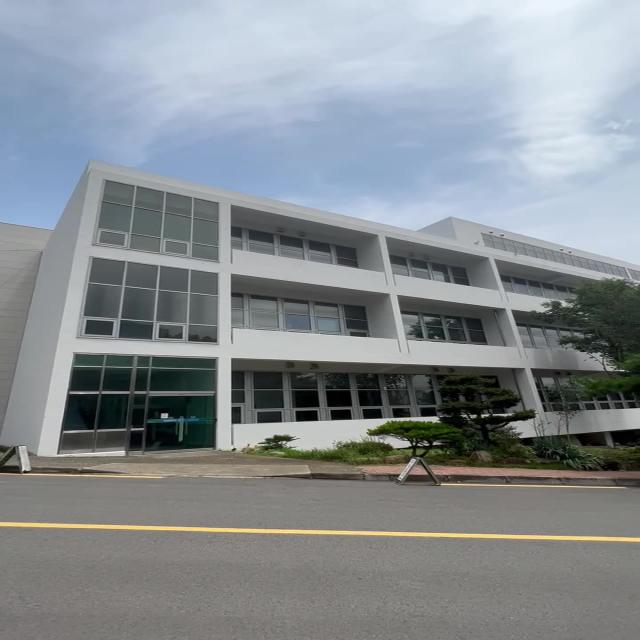building: (14, 164, 550, 418)
